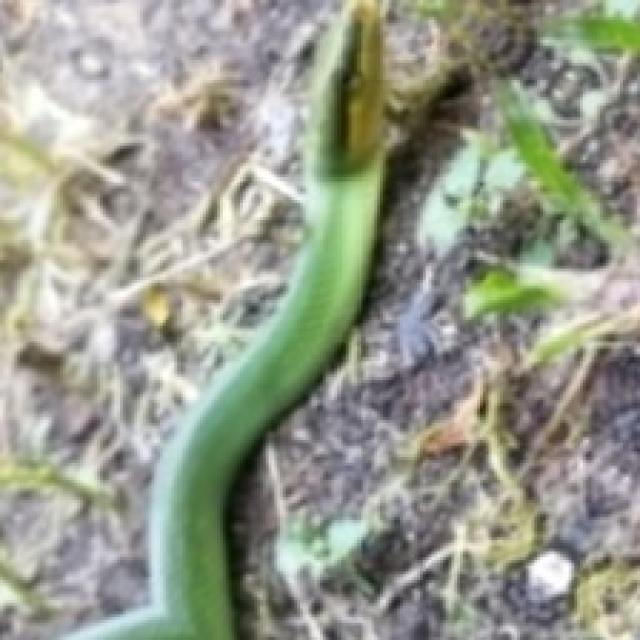red-tailed green ratsnake: (63, 0, 383, 637)
